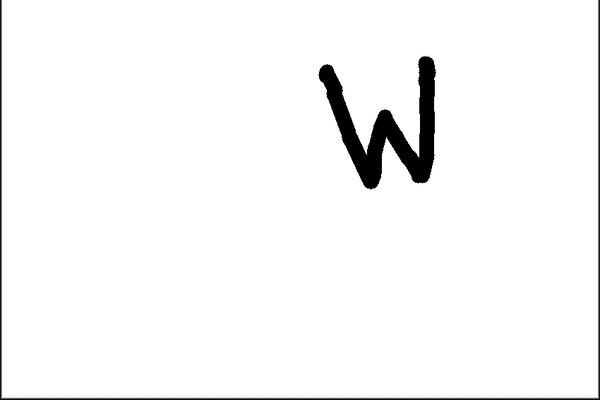w: (291, 36, 472, 209)
